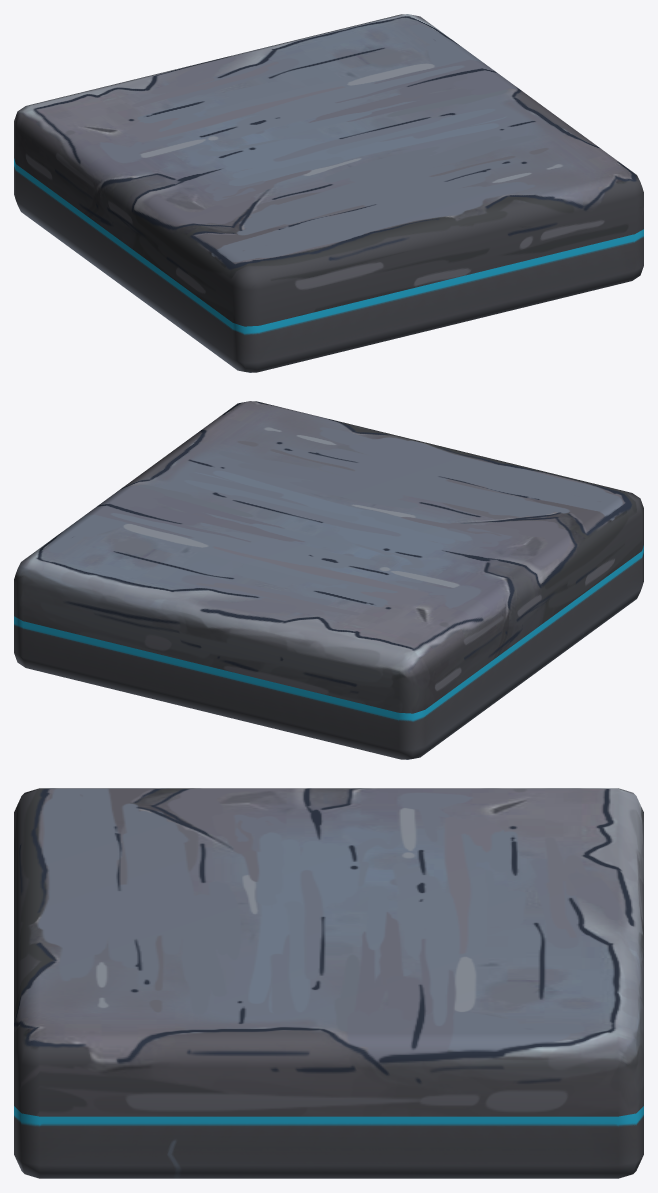
File: Block_Rock.fbx
3 renders of one model, top to bottom at view 1: azimuth 30°, elevation 25°; view 2: azimuth 150°, elevation 25°; view 3: azimuth 270°, elevation 25°, orthographic. The views are drawn at different scales.
Parts seen in each view (by area): view 1: Rock; view 2: Rock; view 3: Rock.
Boxes of the visible parts, box(x1,y1,x2,y2) form: Rock: box(14, 14, 643, 372); Rock: box(14, 401, 643, 759); Rock: box(14, 788, 643, 1178).
Bounding box in the file's own units: 1 × 0.2529 × 1.
